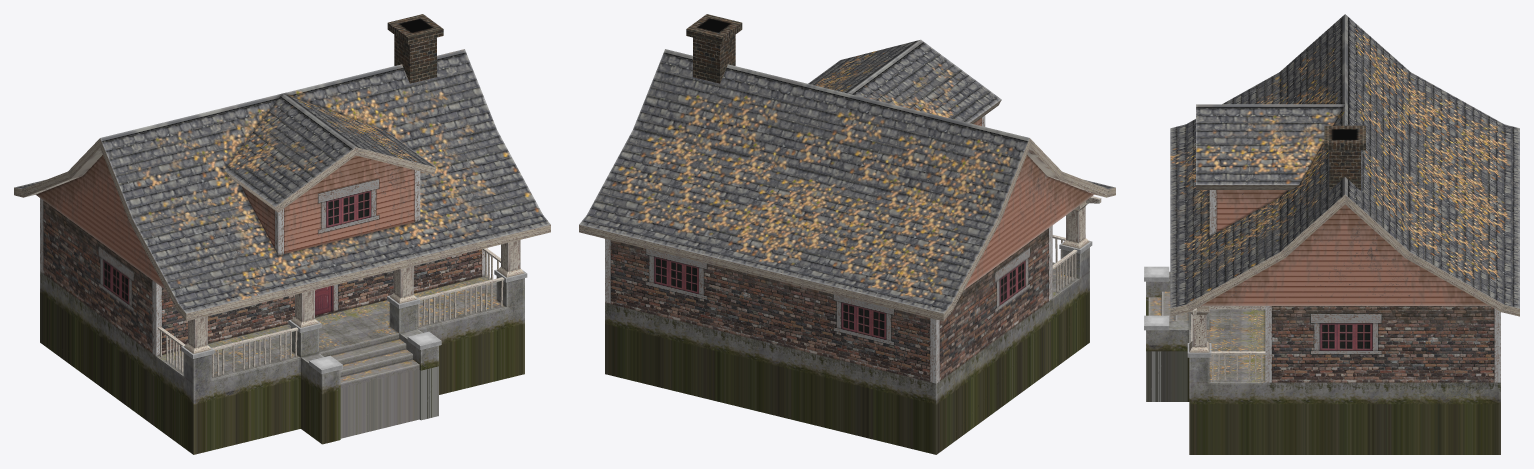
File: House 6 - Separated.fbx
3 views of the same model, side by side, from view 1: azimuth 30°, elevation 25°; view 2: azimuth 150°, elevation 25°; view 3: azimuth 270°, elevation 25° (orthographic).
Parts seen in each view (by area): view 1: House 6; view 2: House 6; view 3: House 6.
Part boxes in pixels (left/top/right/bottom): House 6: left=14, top=14, right=550, bottom=454; House 6: left=579, top=14, right=1115, bottom=454; House 6: left=1144, top=14, right=1519, bottom=454.
Bounding box in the file's own units: 4.94 × 3.88 × 4.35.
